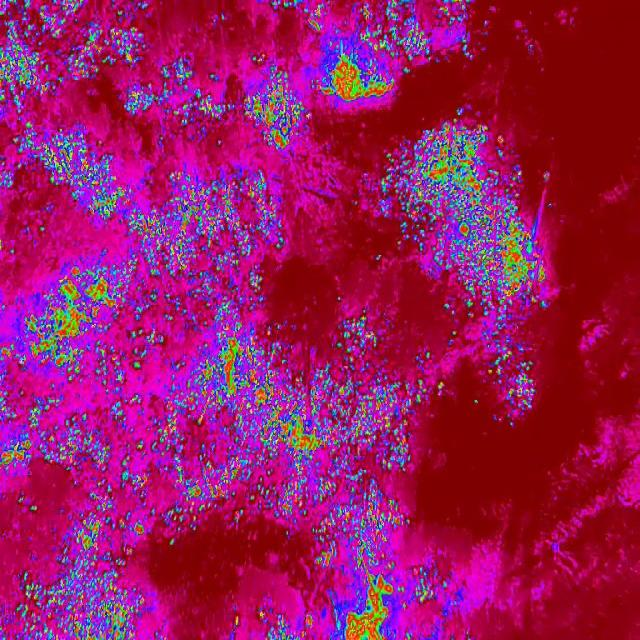fire: (142, 272, 300, 546), (368, 106, 560, 312), (300, 348, 444, 512), (0, 0, 191, 121), (21, 246, 192, 378), (0, 120, 146, 242), (143, 168, 284, 271), (0, 379, 120, 490), (448, 310, 544, 430), (0, 577, 147, 640), (59, 487, 150, 579), (354, 0, 482, 65), (312, 510, 418, 580), (241, 50, 307, 155), (314, 41, 404, 110), (330, 571, 411, 640), (230, 602, 322, 640), (326, 304, 384, 358), (189, 72, 247, 126), (398, 562, 449, 607), (267, 0, 326, 31), (0, 339, 31, 372), (15, 493, 40, 518)
